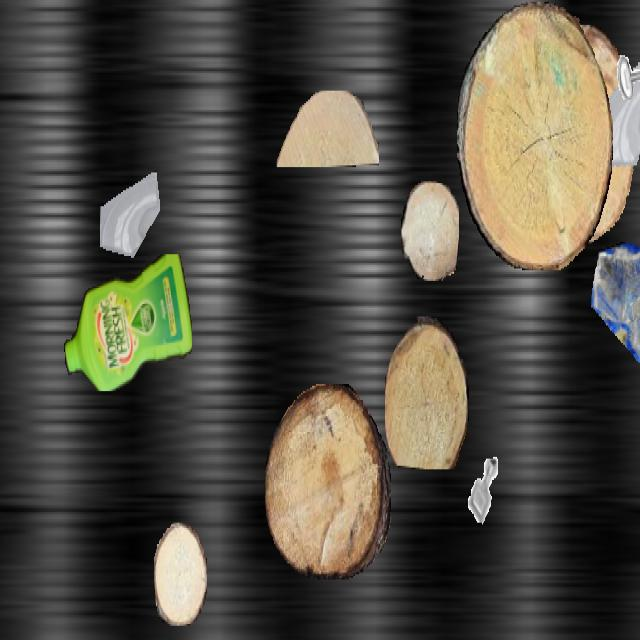glass: (591, 242, 640, 391), (100, 171, 162, 281), (591, 58, 640, 194)
metal: (458, 444, 510, 537), (606, 2, 640, 98)
plastic: (64, 255, 192, 390)
wood: (457, 2, 613, 268), (517, 25, 635, 245), (265, 384, 391, 580), (385, 316, 469, 469), (276, 91, 378, 165), (401, 181, 459, 281), (154, 522, 206, 626)
